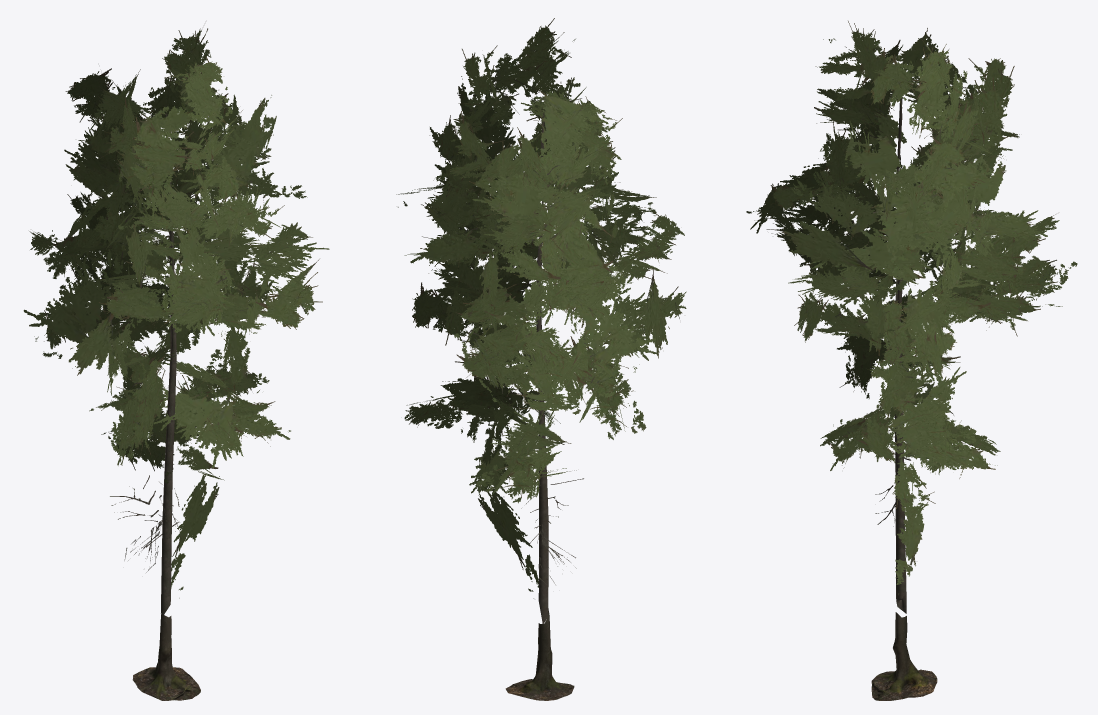
The picture shows the model from 3 angles, left to right: view 1: azimuth 30°, elevation 25°; view 2: azimuth 150°, elevation 25°; view 3: azimuth 270°, elevation 25°; orthographic projection. The views are drawn at different scales.
Parts seen in each view (by area): view 1: fir_tree_01__b_lod2; view 2: fir_tree_01__b_lod2; view 3: fir_tree_01__b_lod2.
Part boxes in pixels (bbox=[...]): fir_tree_01__b_lod2: bbox=[23, 28, 329, 700]; fir_tree_01__b_lod2: bbox=[396, 18, 686, 700]; fir_tree_01__b_lod2: bbox=[746, 21, 1077, 700].
Size of the model in its own units: 6.29 by 14.12 by 6.59.
Materials: 3 (3 with a texture image).
